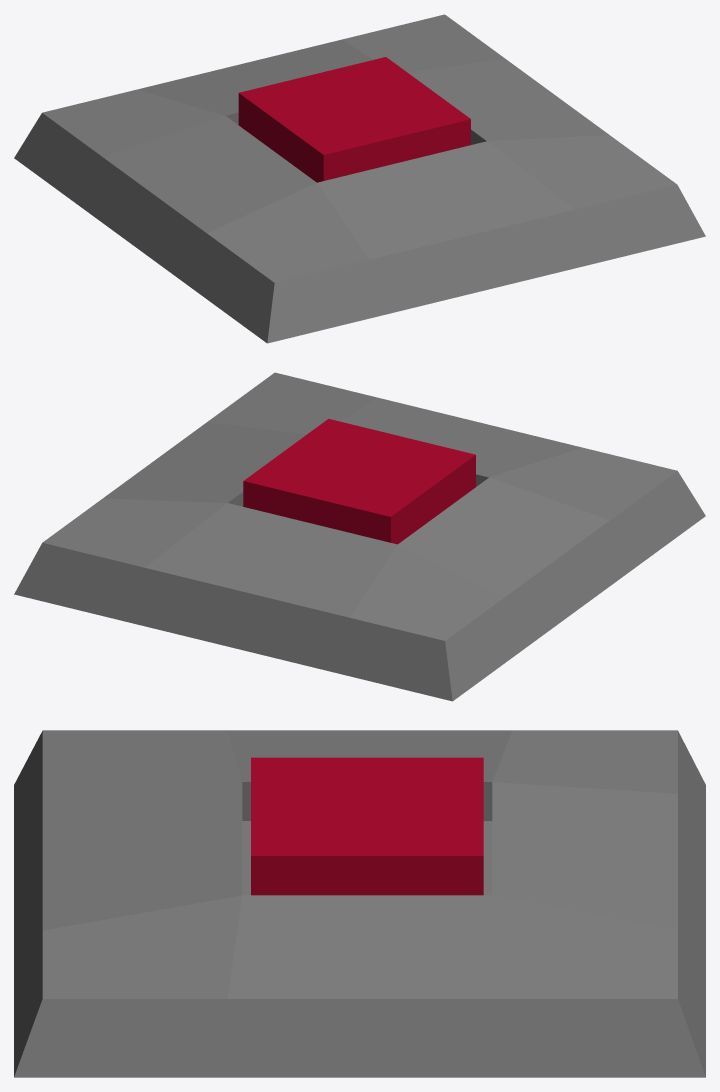
The model's file is swicth.fbx.
3 renders of one model, top to bottom at view 1: azimuth 30°, elevation 25°; view 2: azimuth 150°, elevation 25°; view 3: azimuth 270°, elevation 25°, orthographic. The views are drawn at different scales.
Visible parts, largest first — view 1: Cube, Cube.001; view 2: Cube, Cube.001; view 3: Cube, Cube.001.
Part boxes in pixels (<box>): Cube: <box>14,14,705,343</box>; Cube.001: <box>238,57,470,182</box>; Cube: <box>14,372,705,701</box>; Cube.001: <box>243,418,475,544</box>; Cube: <box>14,730,705,1077</box>; Cube.001: <box>251,757,483,895</box>.
Bounding box in the file's own units: 109 × 21.41 × 109.
